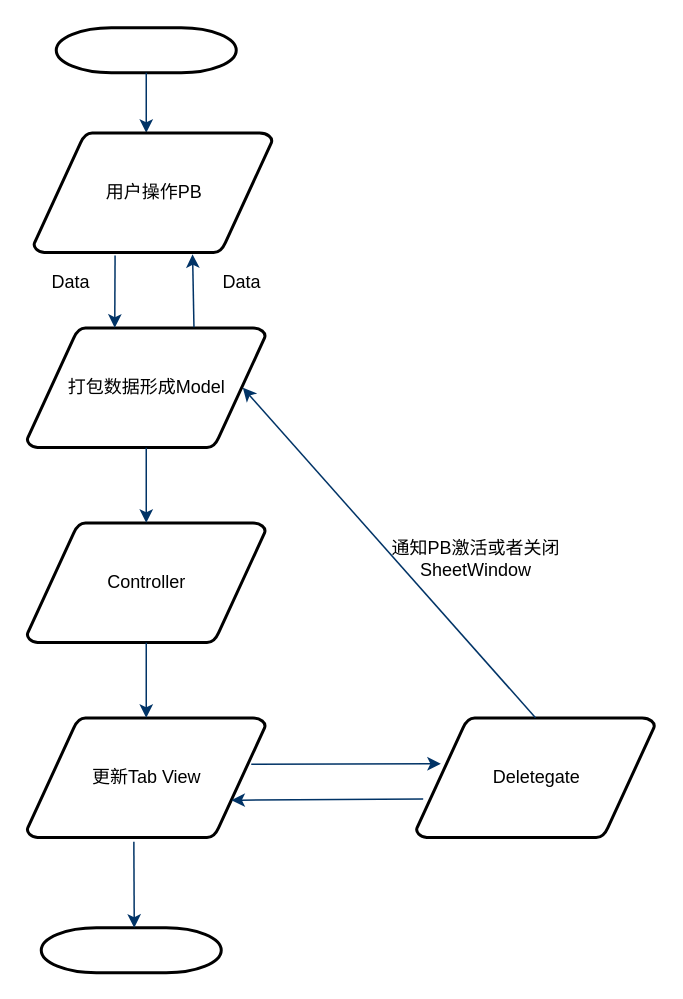
The diagram is 683 pixels wide and 999 high, and some of its shapes have lost their labels. Each missing label, with the centre of its shape:
"end" belongs at point 130,950.
"PB start" belongs at point 145,50.
